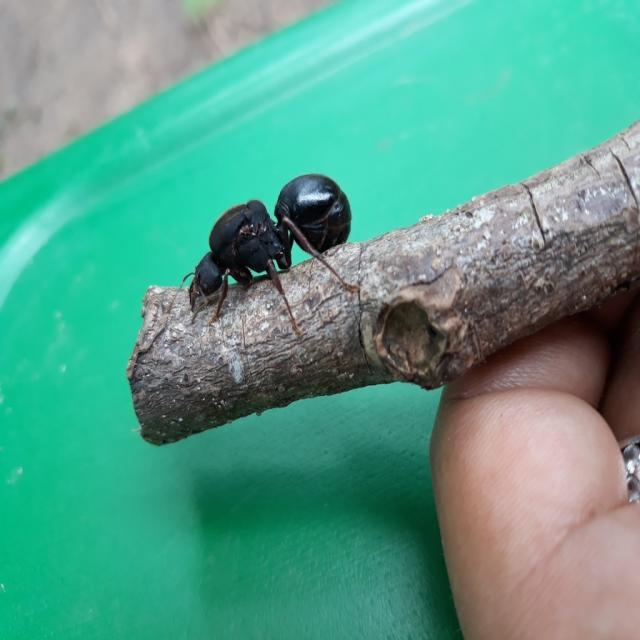Alive-Female-Dealate: (168, 173, 364, 336)
